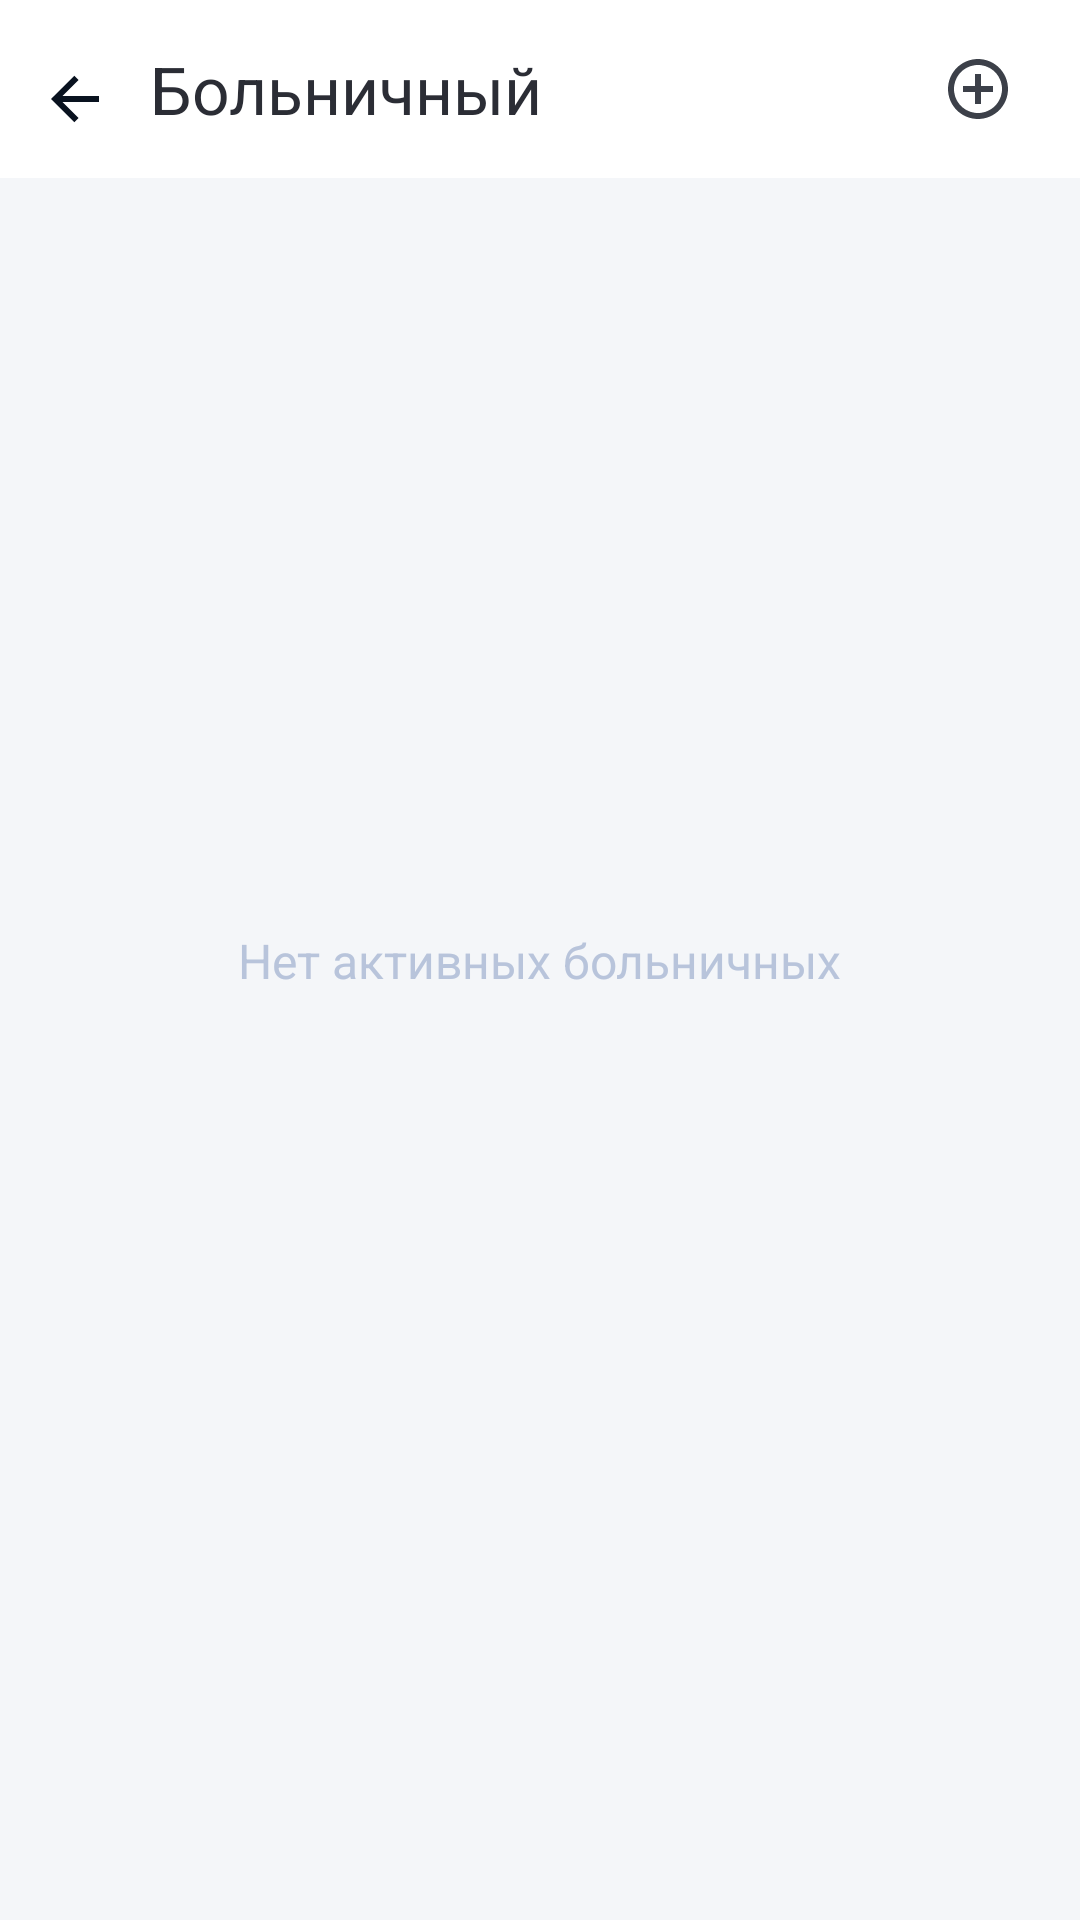

Icons on this 1080px x 1920px Android screen, each with its box as (x1, y1, x2, y2):
add circle line: (948, 59, 1008, 119)
left arrow: (51, 76, 99, 122)
